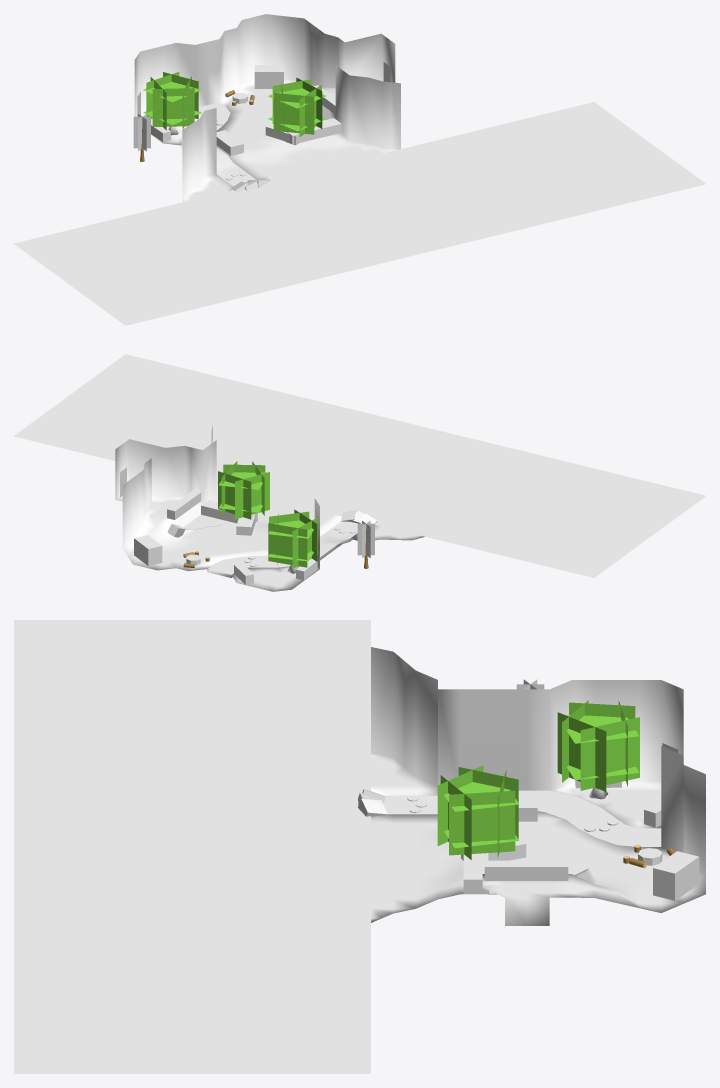
The model's file is world.glb.
The picture shows the model from 3 angles, top to bottom: view 1: azimuth 30°, elevation 25°; view 2: azimuth 150°, elevation 25°; view 3: azimuth 270°, elevation 25°; orthographic projection. The views are drawn at different scales.
Parts seen in each view (by area): view 1: Plane.004, Plane, Cylinder.024, Cylinder.020, Plane.005, Plane.003, Cube, Cylinder.002, Cube.005, Cube.007; view 2: Plane.004, Plane, Cylinder.020, Cylinder.024, Plane.005, Cube, Cylinder.002, Plane.003, Cube.008, Cube.005; view 3: Plane.004, Plane, Cylinder.024, Cylinder.020, Plane.005, Cube, Cube.008, Cube.005.
Part boxes in pixels (x1=…): Plane.004: x1=14, y1=102, x2=705, y2=324; Plane: x1=134, y1=14, x2=400, y2=202; Cylinder.024: x1=143, y1=72, x2=201, y2=135; Cylinder.020: x1=268, y1=77, x2=326, y2=136; Plane.005: x1=181, y1=102, x2=255, y2=186; Plane.003: x1=14, y1=184, x2=705, y2=325; Cube: x1=254, y1=65, x2=283, y2=88; Cylinder.002: x1=133, y1=114, x2=150, y2=161; Cube.005: x1=287, y1=118, x2=341, y2=144; Cube.007: x1=216, y1=130, x2=243, y2=156; Plane.004: x1=14, y1=354, x2=705, y2=577; Plane: x1=115, y1=426, x2=424, y2=591; Cylinder.020: x1=218, y1=461, x2=269, y2=519; Cylinder.024: x1=268, y1=509, x2=317, y2=573; Plane.005: x1=208, y1=521, x2=357, y2=574; Cube: x1=134, y1=535, x2=162, y2=565; Cylinder.002: x1=357, y1=520, x2=374, y2=568; Plane.003: x1=14, y1=436, x2=705, y2=577; Cube.008: x1=167, y1=490, x2=201, y2=519; Cube.005: x1=201, y1=500, x2=257, y2=523; Plane.004: x1=14, y1=620, x2=370, y2=1072; Plane: x1=371, y1=647, x2=705, y2=925; Cylinder.024: x1=557, y1=700, x2=639, y2=799; Cylinder.020: x1=437, y1=765, x2=519, y2=859; Plane.005: x1=383, y1=790, x2=661, y2=846; Cube: x1=653, y1=851, x2=699, y2=900; Cube.008: x1=484, y1=860, x2=568, y2=880; Cube.005: x1=463, y1=853, x2=488, y2=894.
Size of the model in its own units: 96 by 12.08 by 62.
